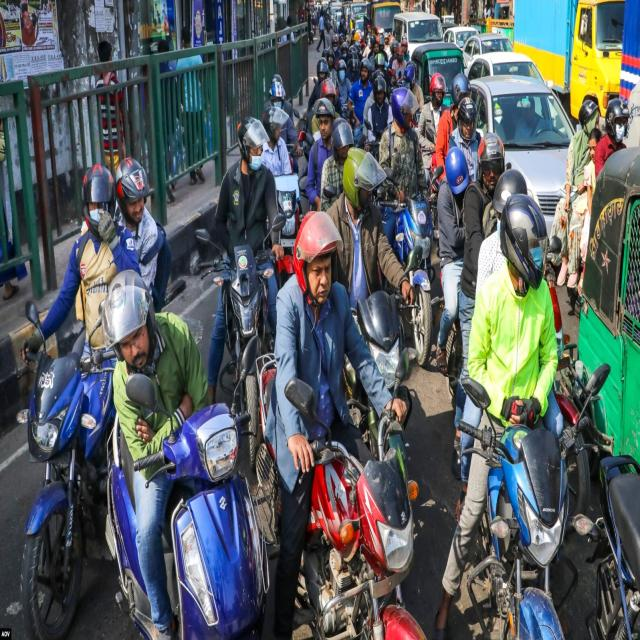Car: (469, 57, 588, 252)
Helmet: (495, 181, 549, 302), (286, 208, 340, 328), (104, 270, 162, 371), (110, 143, 150, 219), (227, 108, 271, 177), (338, 134, 377, 208), (79, 162, 117, 234), (390, 73, 418, 144), (602, 97, 630, 151), (326, 109, 353, 164), (452, 87, 474, 139), (425, 76, 446, 114), (580, 91, 598, 134)
Motorbike: (253, 350, 427, 640)
